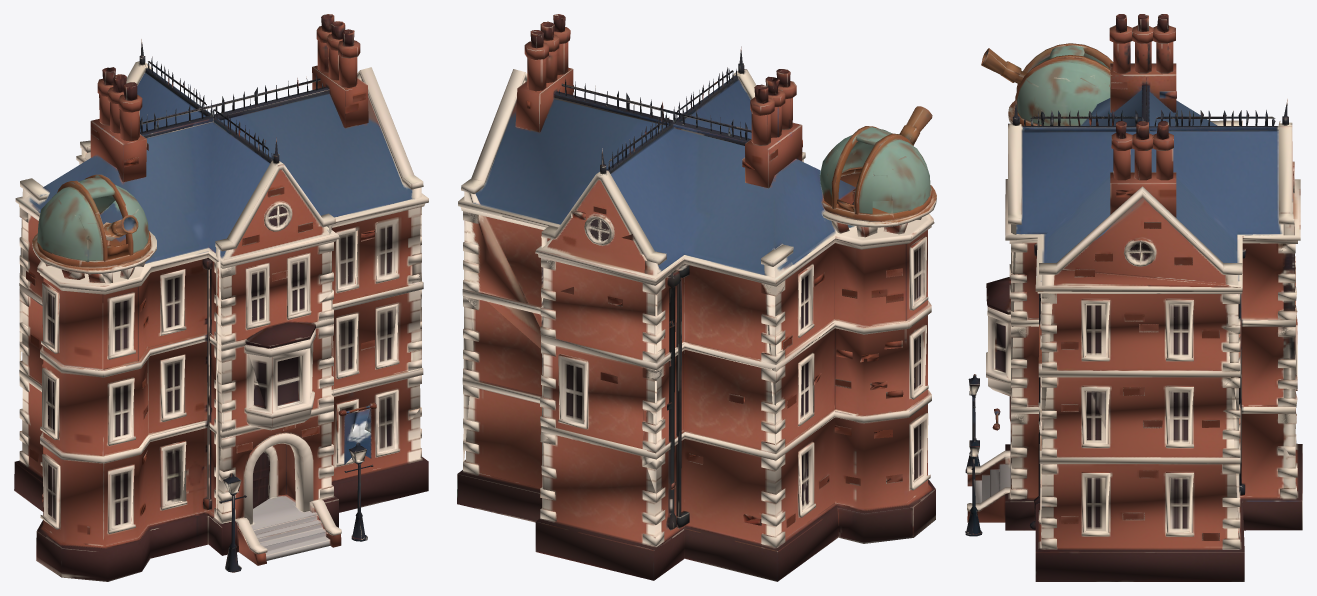
Rendered from University.fbx.
3 views of the same model, side by side, from view 1: azimuth 30°, elevation 25°; view 2: azimuth 150°, elevation 25°; view 3: azimuth 270°, elevation 25° (orthographic). The views are drawn at different scales.
Parts seen in each view (by area): view 1: Mesh_0; view 2: Mesh_0; view 3: Mesh_0.
Part boxes in pixels (<box>): Mesh_0: <box>14,14,428,581</box>; Mesh_0: <box>457,14,936,581</box>; Mesh_0: <box>965,14,1302,581</box>.
Size of the model in its own units: 84.52 by 95.26 by 66.06.
1 material, 1 textured.
